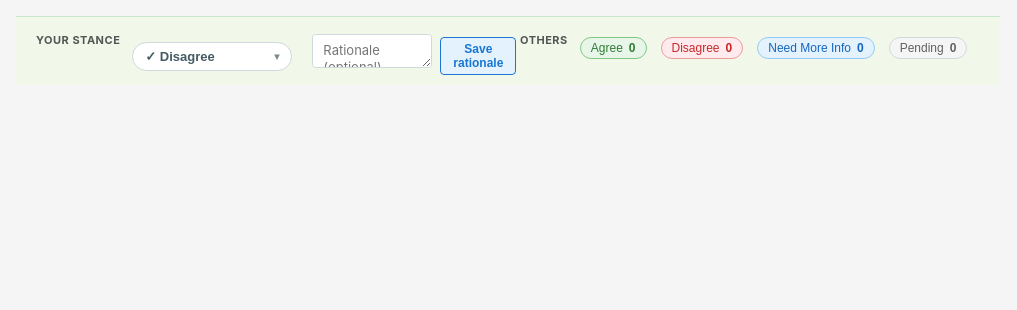
Test: DecisionBar › cancel edit menu item closes menu without clearing stance
Click the button with test id "stance-edit-btn".
click(212, 56)  # box [132,42,292,70]
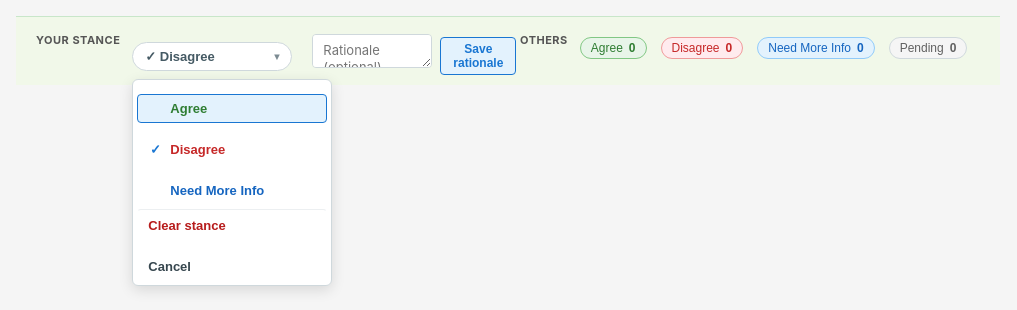
Click the menu item with test id "stance-cancel-edit-btn".
click(232, 266)  # box [137,252,327,281]
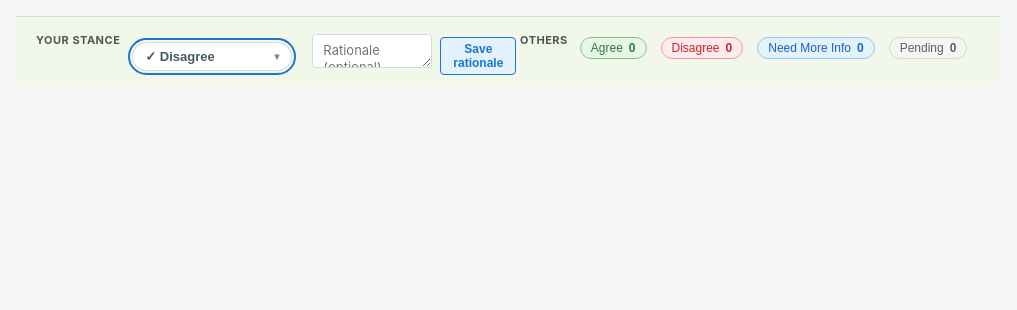
Check: the menu with test id "stance-menu" is gone
